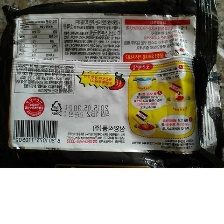snack: (0, 0, 224, 167)
